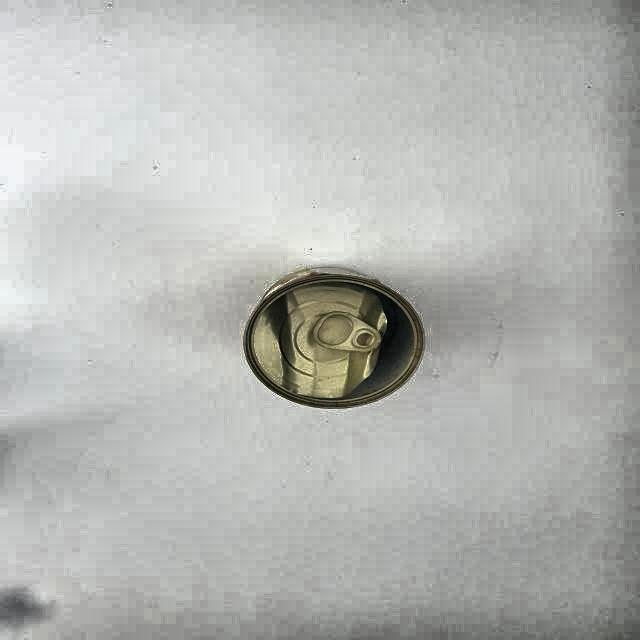metal: (244, 268, 427, 411)
